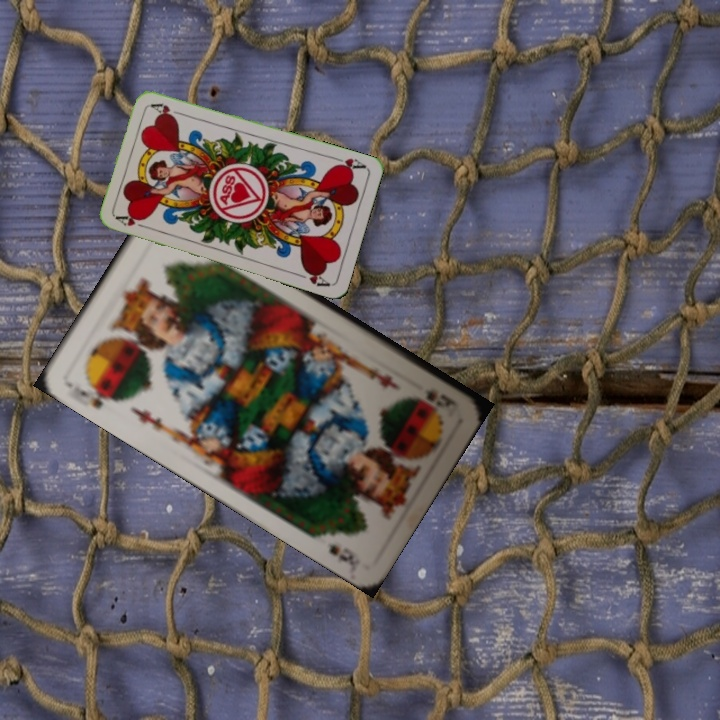HA: (328, 152, 368, 174), (113, 211, 153, 232)
SK: (75, 377, 121, 412), (421, 387, 461, 411)
